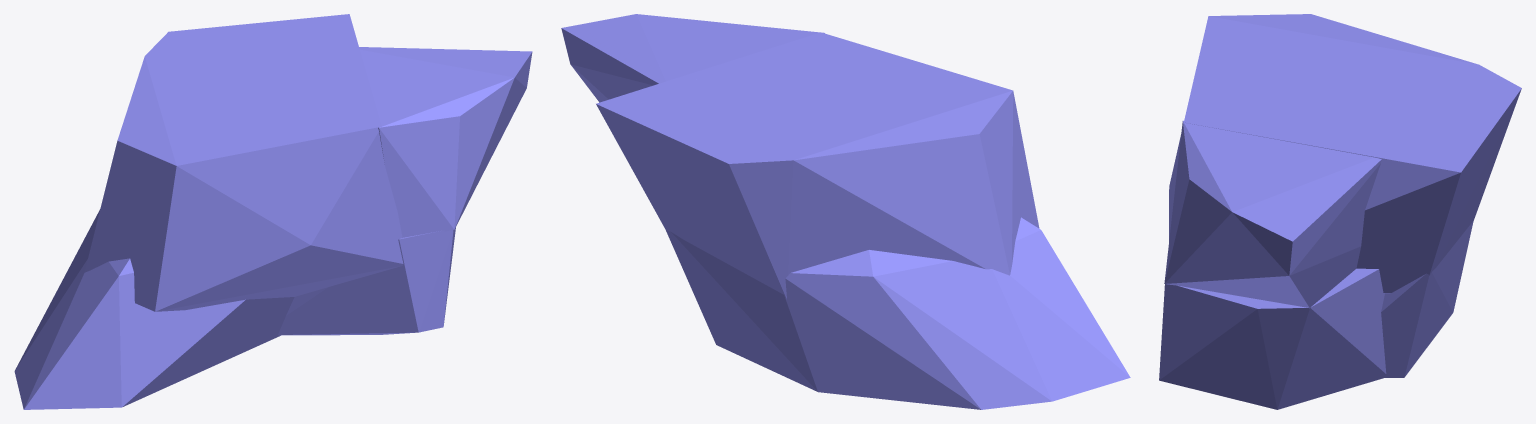
Rendered from Cliff_Block_01_Skew_Collider_01.FBX.
3 renders of one model, left to right at view 1: azimuth 30°, elevation 25°; view 2: azimuth 150°, elevation 25°; view 3: azimuth 270°, elevation 25°, orthographic. The views are drawn at different scales.
Visible parts, largest first — view 1: COLLIDER3, COLLIDER1, COLLIDER4, COLLIDER2; view 2: COLLIDER3, COLLIDER1, COLLIDER4; view 3: COLLIDER3, COLLIDER4, COLLIDER2, COLLIDER1.
Part boxes in pixels (x1,y1,x2,y2): COLLIDER3: [84, 14, 403, 311]; COLLIDER1: [14, 209, 294, 409]; COLLIDER4: [359, 47, 532, 237]; COLLIDER2: [278, 227, 455, 335]; COLLIDER3: [596, 32, 1039, 299]; COLLIDER1: [666, 217, 1130, 409]; COLLIDER4: [561, 14, 824, 102]; COLLIDER3: [1169, 14, 1521, 293]; COLLIDER4: [1164, 120, 1381, 308]; COLLIDER2: [1159, 268, 1386, 409]; COLLIDER1: [1381, 221, 1473, 377].
Bounding box in the file's own units: 340 × 141 × 181.
